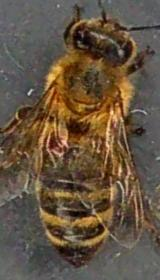varroa_mite: (38, 118, 76, 160)
